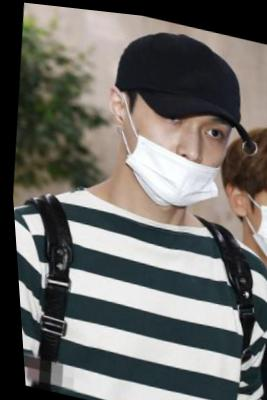OK: (240, 164, 267, 270)
WRONG: (122, 81, 236, 217)
